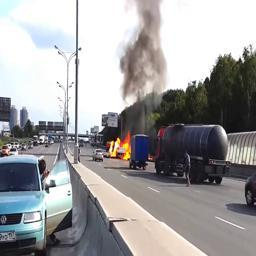fire: (110, 132, 132, 160)
